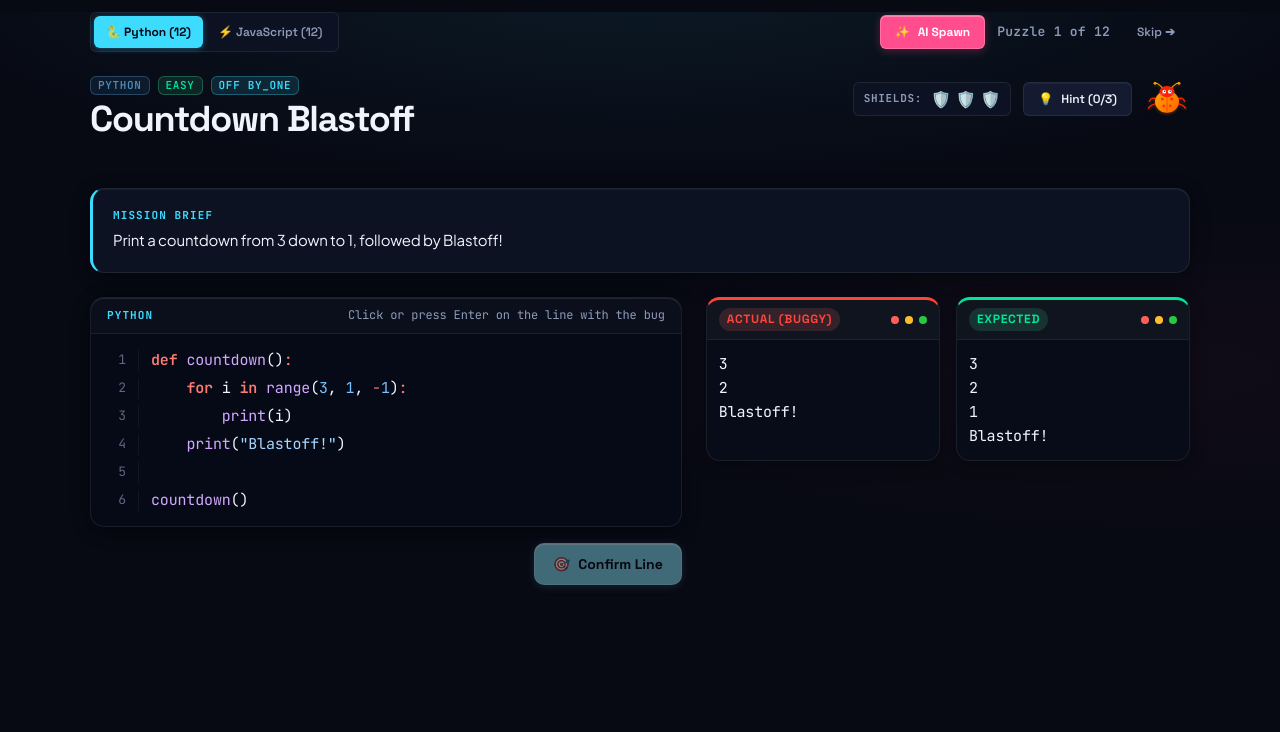
Scenario: Arena Gameplay End-to-End Loop (Bricks 5 & 6) › switches between Python and JavaScript languages
Click the tab "⚡ JavaScript (12)" at (270, 32), box [206,16,334,48]
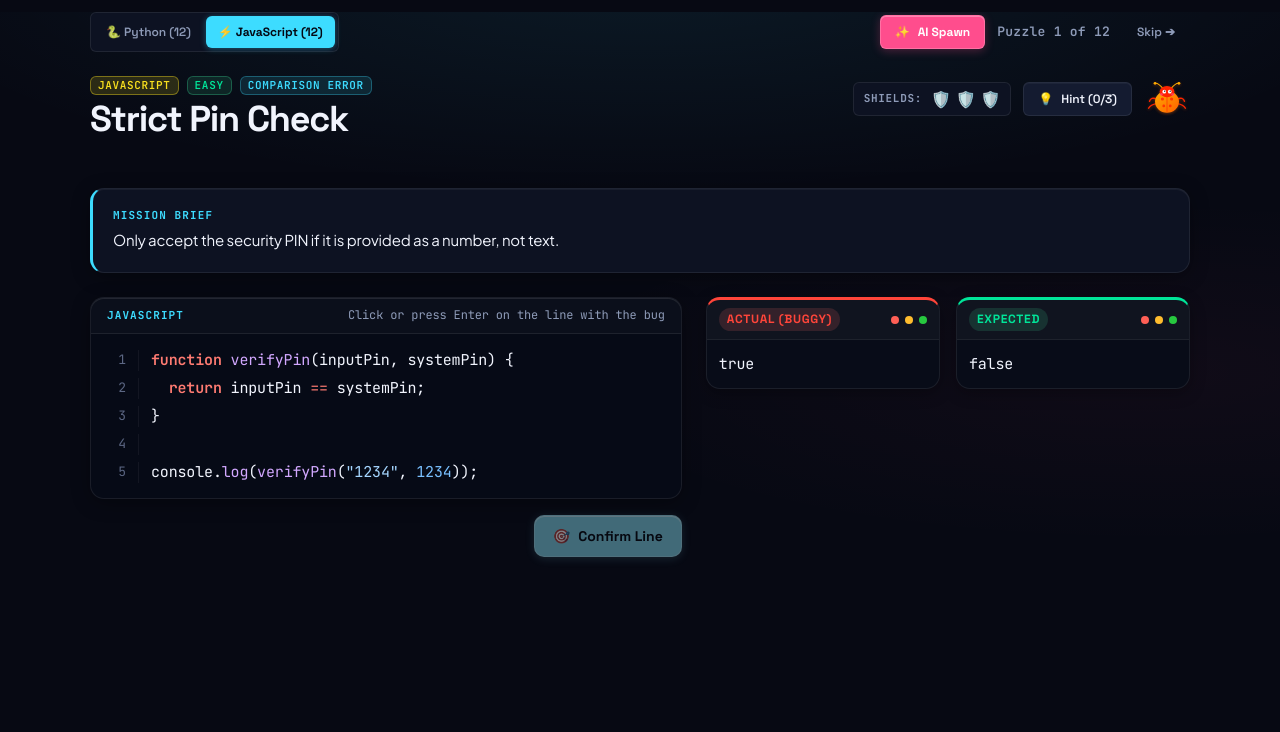
Expected: the heading "Strict Pin Check" is shown, [90,99,372,140]
Expected: the element named "javascript code snippet editor" is shown, [90,297,682,499]
